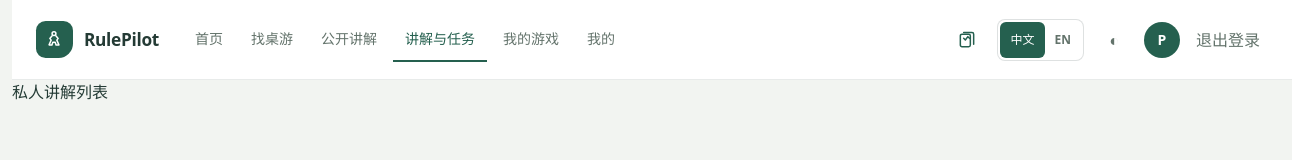
AppShell › clears account-owned notices and the active route state after logout succeeds
This screenshot has width=1292, height=160.
Click the button "退出登录": (1228, 40) [1188, 18, 1268, 62]
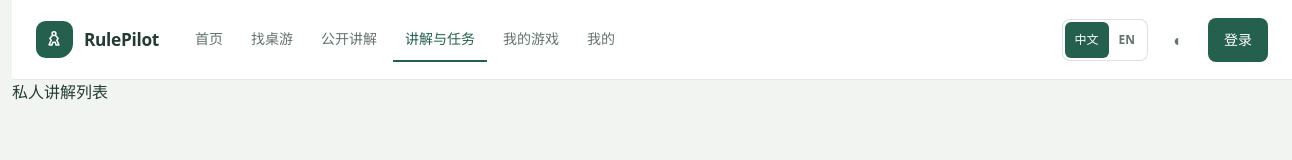
Expected: the text "player" is gone
